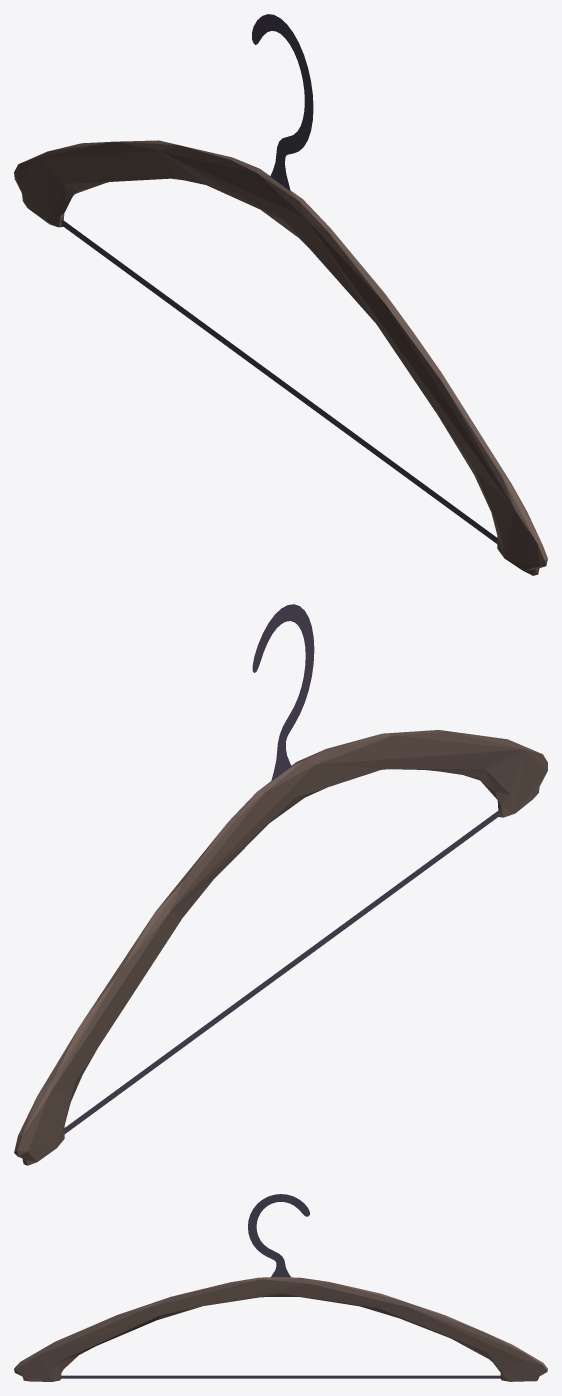
Rendered from Prefab_Array_Hanger.glb.
The picture shows the model from 3 angles, top to bottom: view 1: azimuth 30°, elevation 25°; view 2: azimuth 150°, elevation 25°; view 3: azimuth 270°, elevation 25°; orthographic projection. The views are drawn at different scales.
Visible parts, largest first — view 1: ShirtHanger.002; view 2: ShirtHanger.002; view 3: ShirtHanger.002.
Boxes of the visible parts, x1,y1,x2,y2 form: ShirtHanger.002: (14, 14, 547, 575); ShirtHanger.002: (14, 604, 547, 1165); ShirtHanger.002: (14, 1194, 547, 1381).
Size of the model in its own units: 0.0049 by 0.1658 by 0.4288.
Materials: 1 (1 with a texture image).
